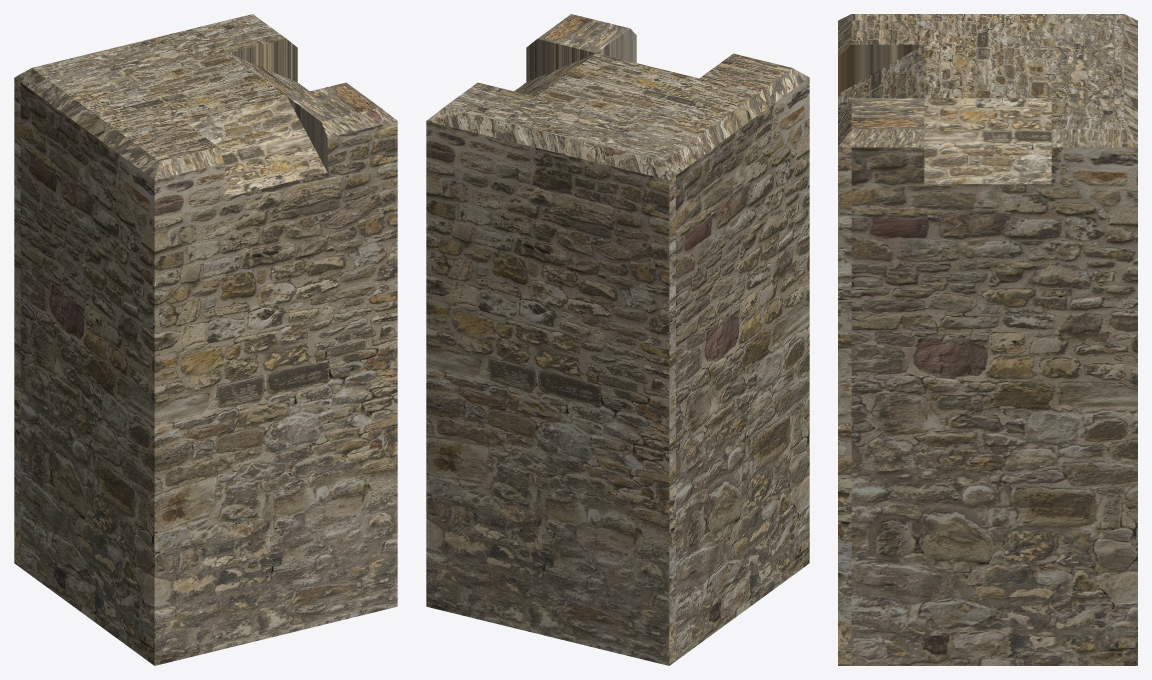
Rendered from ShortWallCorner.fbx.
3 renders of one model, left to right at view 1: azimuth 30°, elevation 25°; view 2: azimuth 150°, elevation 25°; view 3: azimuth 270°, elevation 25°, orthographic. The views are drawn at different scales.
Parts seen in each view (by area): view 1: ShortWallCorner; view 2: ShortWallCorner; view 3: ShortWallCorner.
Boxes of the visible parts, x1=… form: ShortWallCorner: x1=14, y1=14, x2=397, y2=665; ShortWallCorner: x1=426, y1=14, x2=809, y2=665; ShortWallCorner: x1=838, y1=14, x2=1137, y2=665.
Bounding box in the file's own units: 550 × 1075 × 550.
